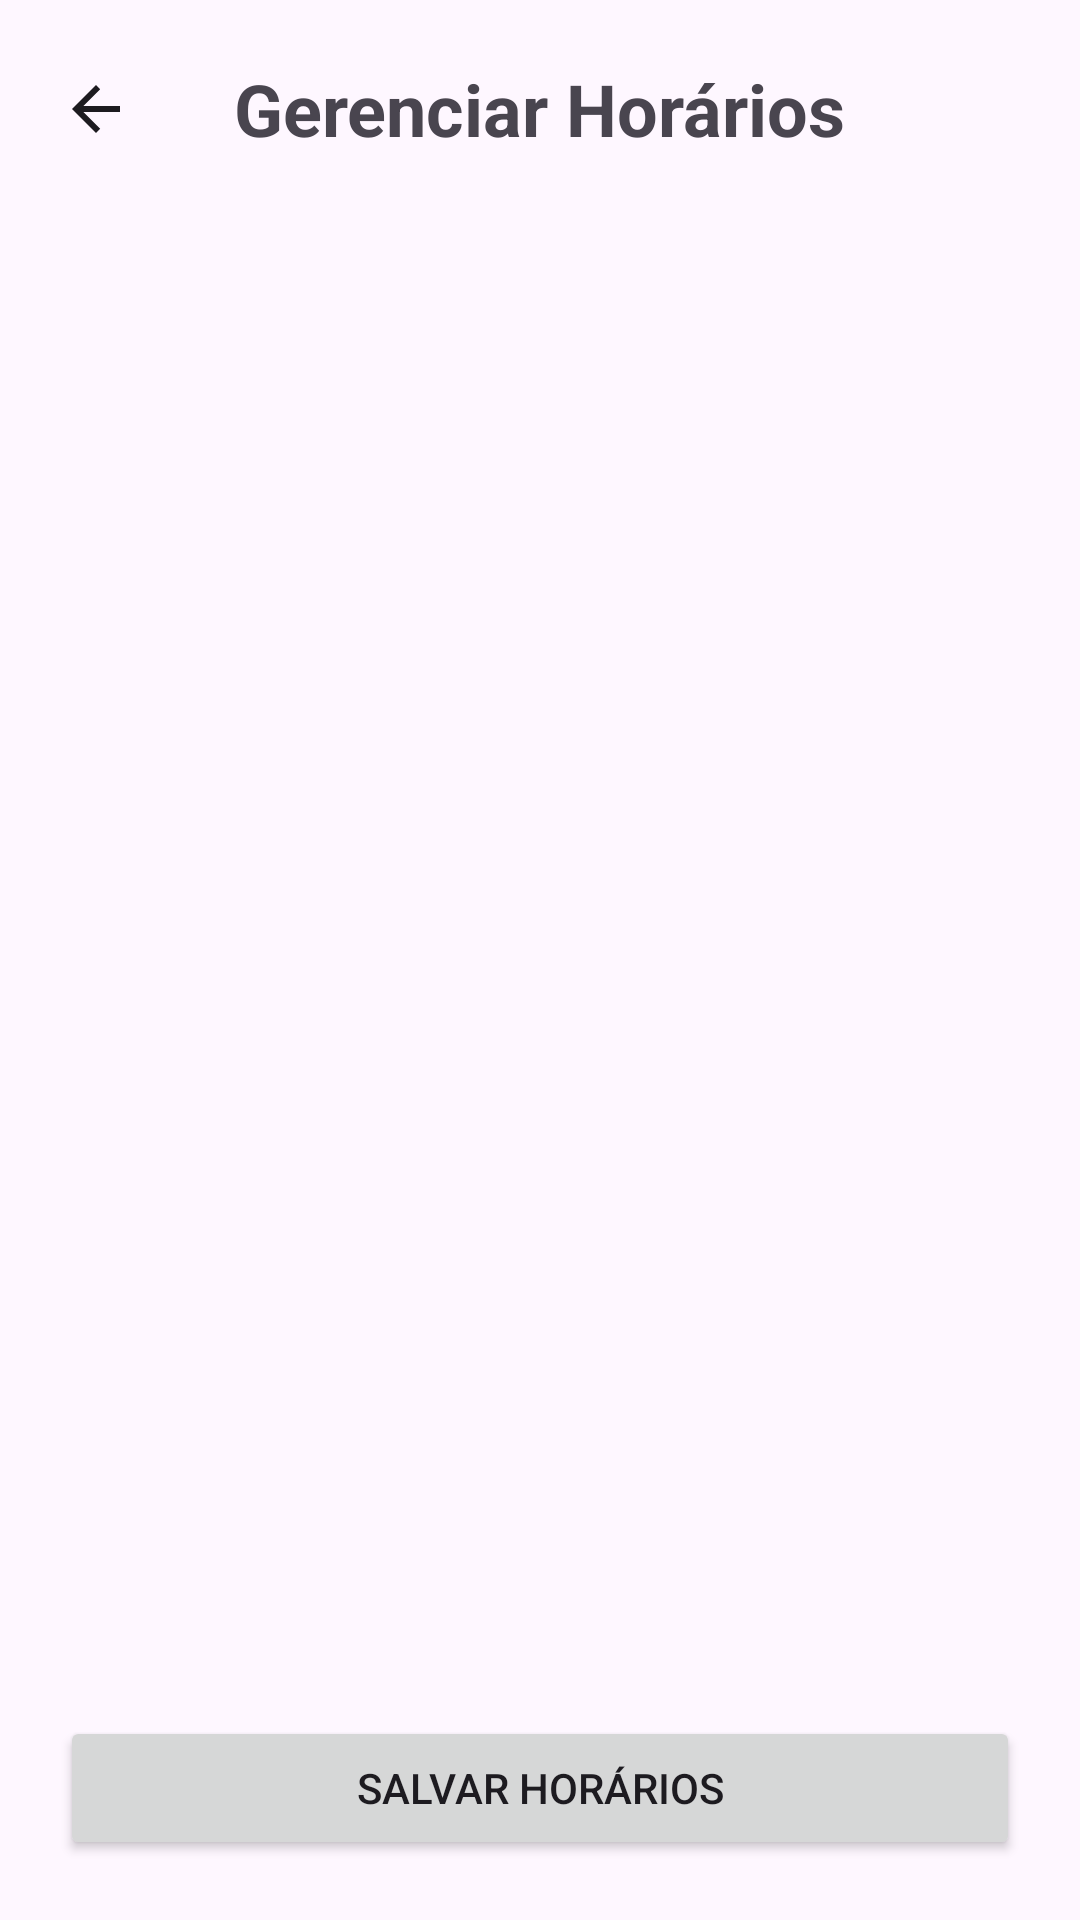

Point at icon controls on the screen. Image size 1080px×1920px, points as [x,y].
Seta para voltar: [96,109]
